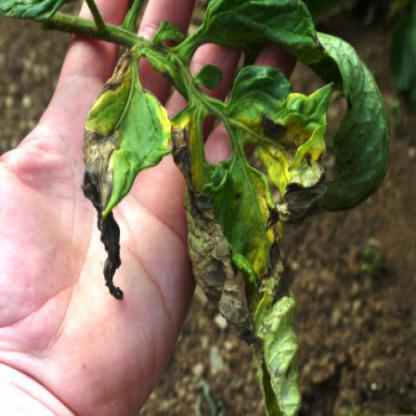Potato leaf early blight: (186, 154, 310, 411), (72, 38, 178, 307), (232, 62, 330, 202)
